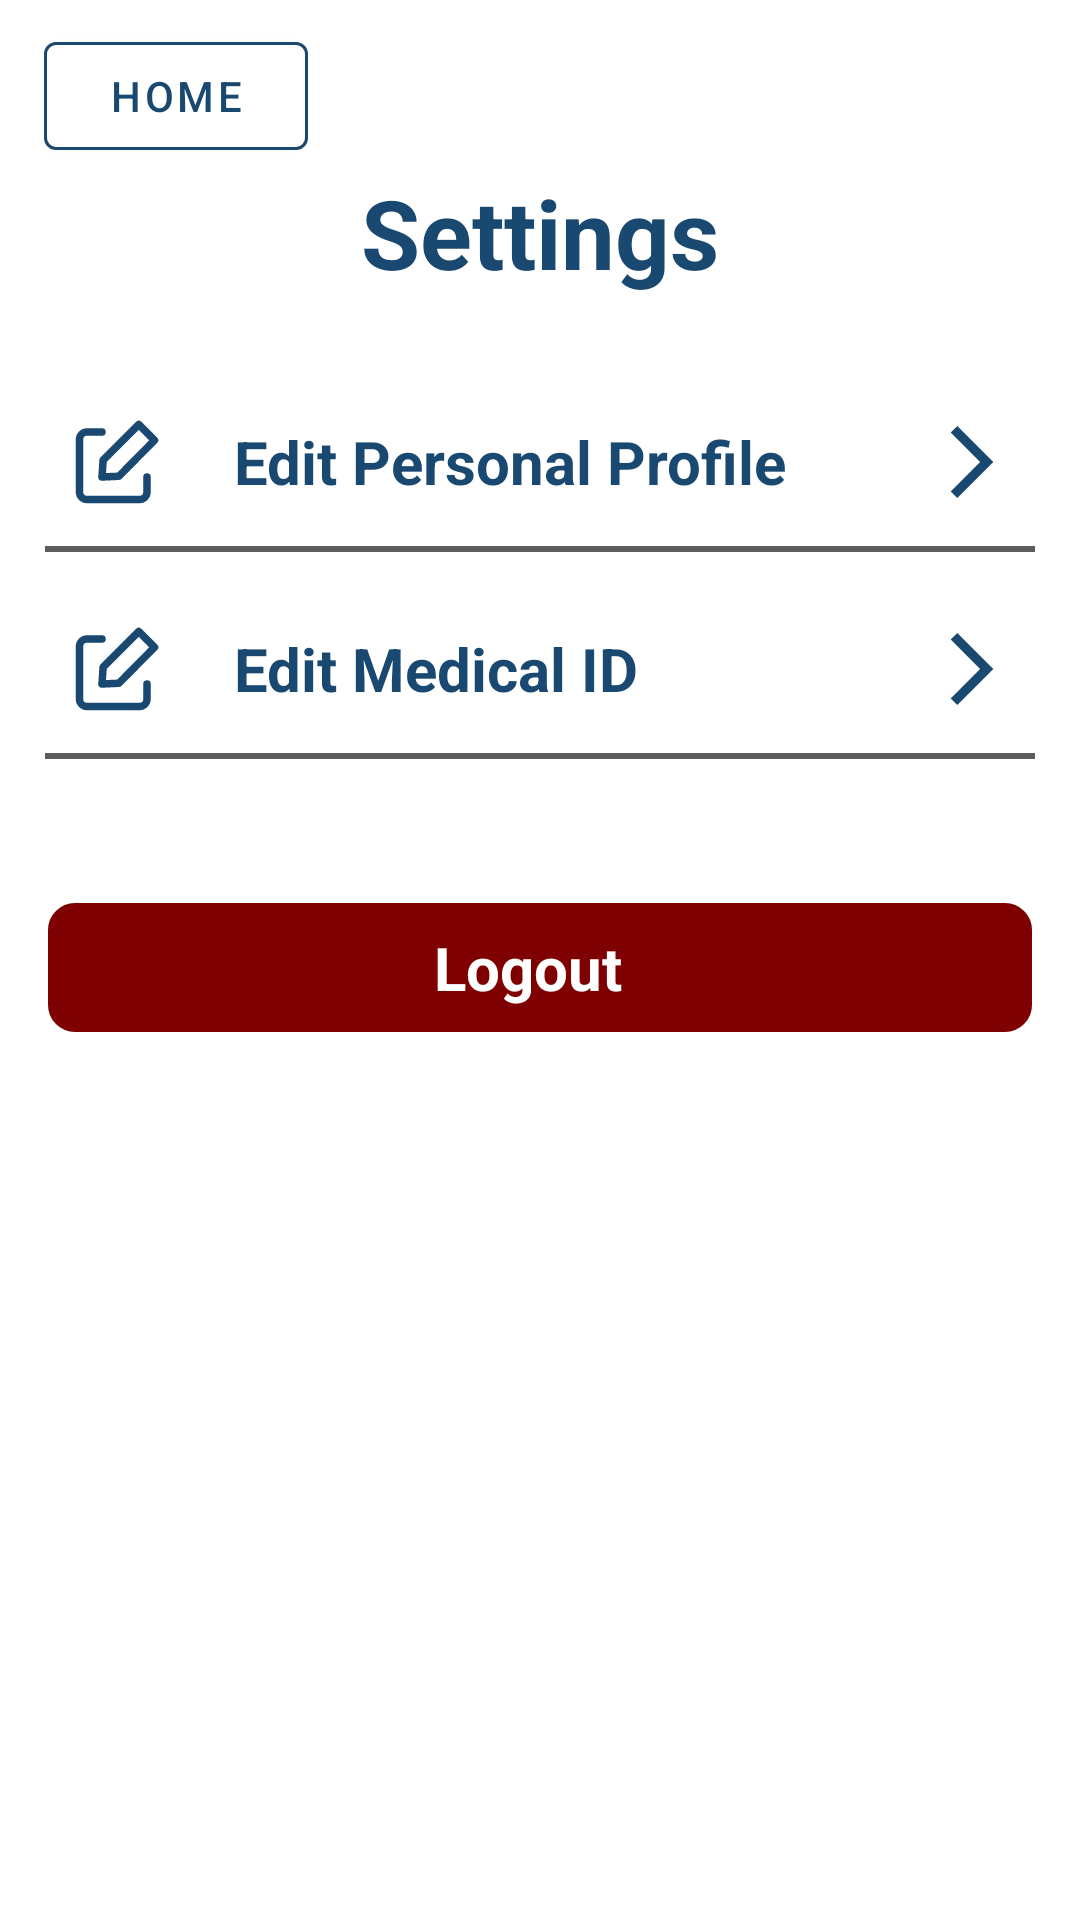

Screen size 1080 x 1920. Icon name, then its center in pixels as (x=x, y=y):
arrow open right: (x=972, y=462), (x=972, y=669)
edit open: (x=117, y=462), (x=117, y=669)
